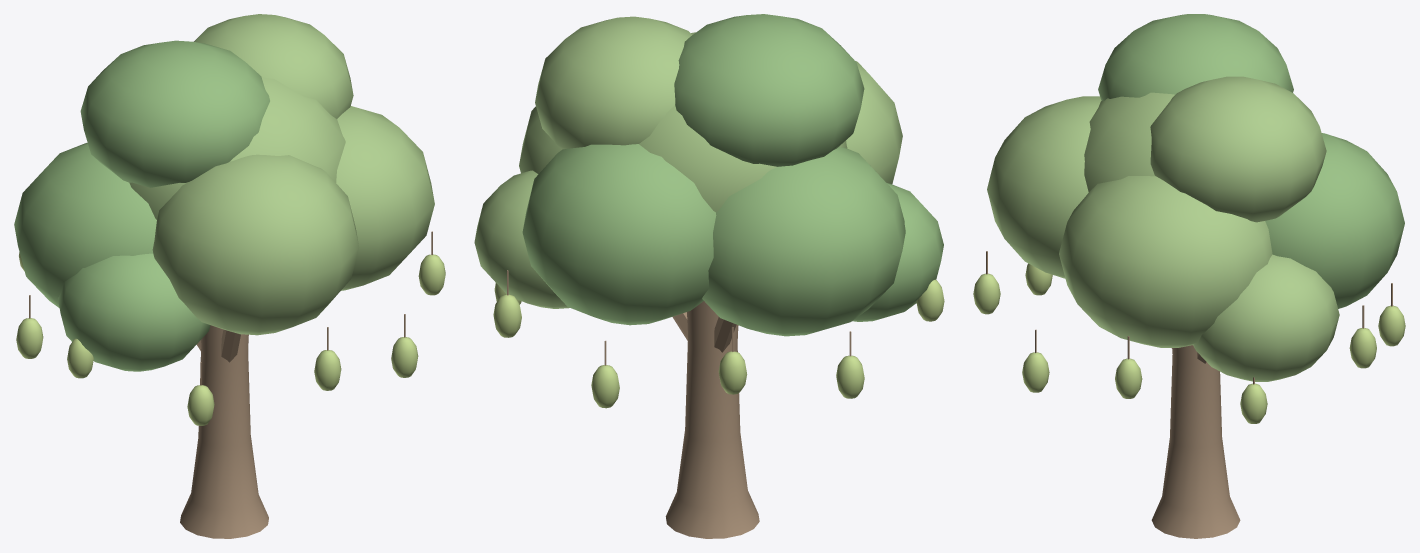
File: gourd-prop-mango-tree.glb
3 renders of one model, left to right at view 1: azimuth 30°, elevation 25°; view 2: azimuth 150°, elevation 25°; view 3: azimuth 270°, elevation 25°, orthographic. The views are drawn at different scales.
Visible parts, largest first — view 1: crown4, crown5, crown1, crown7, crown2, trunk, crown6, crown0, mango9, mango4, mango6, mango7 (+2 smaller); view 2: crown1, crown3, crown5, crown6, trunk, crown8, crown0, crown7, crown4, crown2, mango4, mango3 (+3 smaller); view 3: crown2, crown6, crown3, crown4, crown8, crown5, trunk, crown0, mango2, mango7, mango8, mango1 (+3 smaller).
Boxes of the visible parts, x1=… form: crown4: x1=152, y1=154, x2=359, y2=335; crown5: x1=80, y1=40, x2=269, y2=187; crown1: x1=14, y1=142, x2=156, y2=307; crown7: x1=58, y1=253, x2=210, y2=371; crown2: x1=336, y1=106, x2=434, y2=290; trunk: x1=180, y1=325, x2=268, y2=538; crown6: x1=194, y1=14, x2=353, y2=118; crown0: x1=129, y1=77, x2=345, y2=219; mango9: x1=418, y1=254, x2=445, y2=295; mango4: x1=16, y1=318, x2=43, y2=358; mango6: x1=187, y1=385, x2=214, y2=425; mango7: x1=314, y1=350, x2=341, y2=390; crown1: x1=702, y1=147, x2=905, y2=336; crown3: x1=522, y1=144, x2=716, y2=325; crown5: x1=674, y1=14, x2=864, y2=166; crown6: x1=535, y1=16, x2=691, y2=149; trunk: x1=665, y1=301, x2=759, y2=538; crown8: x1=474, y1=170, x2=569, y2=308; crown0: x1=639, y1=32, x2=847, y2=212; crown7: x1=852, y1=182, x2=943, y2=321; crown4: x1=846, y1=61, x2=902, y2=183; crown2: x1=519, y1=106, x2=561, y2=173; mango4: x1=836, y1=355, x2=864, y2=398; mango3: x1=718, y1=351, x2=747, y2=394; crown2: x1=1059, y1=176, x2=1272, y2=347; crown6: x1=1150, y1=76, x2=1326, y2=222; crown3: x1=1265, y1=133, x2=1404, y2=308; crown4: x1=987, y1=96, x2=1101, y2=278; crown8: x1=1193, y1=254, x2=1339, y2=381; crown5: x1=1098, y1=14, x2=1293, y2=100; trunk: x1=1151, y1=345, x2=1240, y2=538; crown0: x1=1084, y1=92, x2=1174, y2=191; mango2: x1=1378, y1=305, x2=1405, y2=346; mango7: x1=973, y1=273, x2=1000, y2=314; mango8: x1=1022, y1=352, x2=1049, y2=392; mango1: x1=1349, y1=328, x2=1376, y2=368.
Size of the model in its own units: 0.3243 by 0.4 by 0.331.
